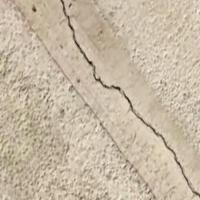crack: (59, 0, 199, 199)
